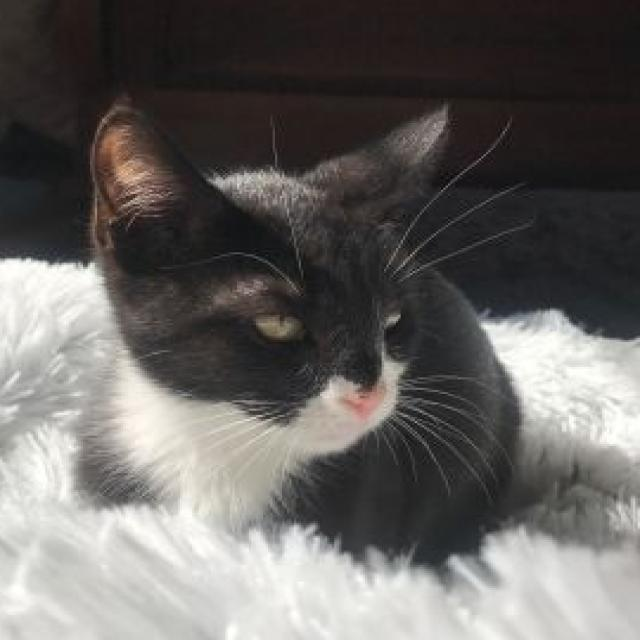Tuxedo: (80, 92, 527, 569)
